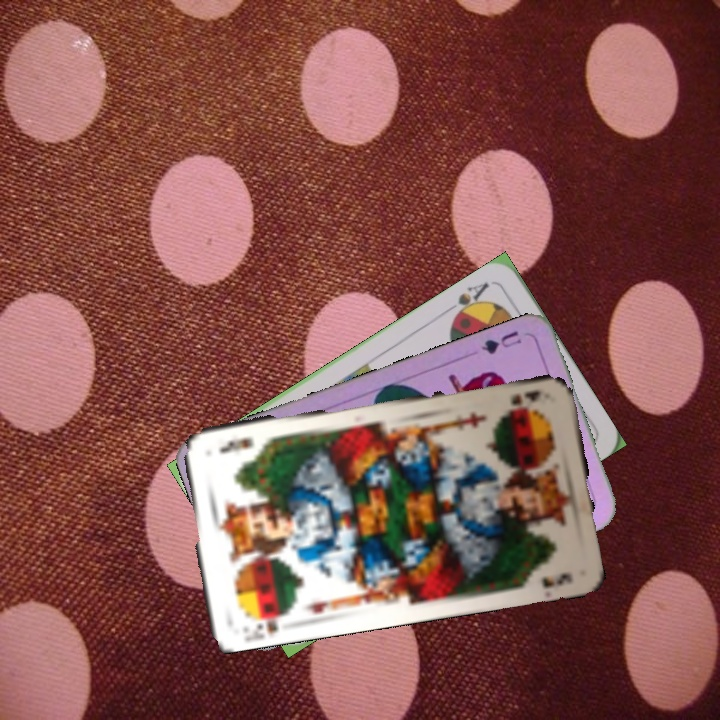GU: (477, 326, 525, 357)
SA: (448, 278, 492, 324)
SK: (252, 608, 290, 638), (507, 385, 544, 409)
